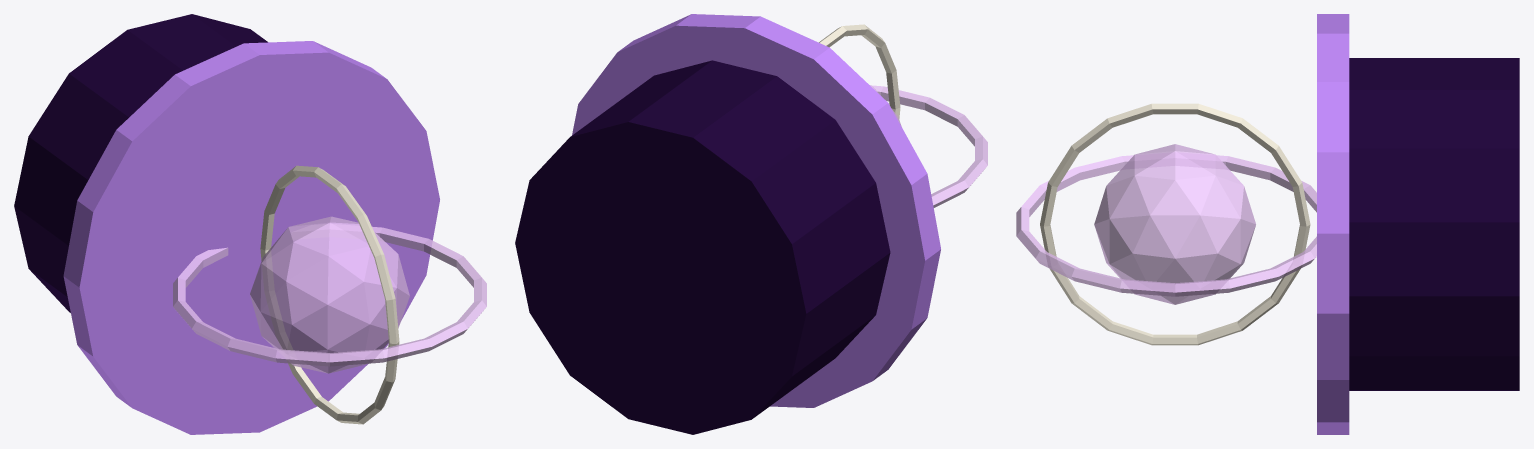
The model's file is 09_high_tier_relic_pedestal.glb.
3 views of the same model, side by side, from view 1: azimuth 30°, elevation 25°; view 2: azimuth 150°, elevation 25°; view 3: azimuth 270°, elevation 25° (orthographic).
Parts seen in each view (by area): view 1: top_rim, relic_pedestal, floating_relic_core, relic_orbit_a, relic_orbit_b; view 2: relic_pedestal, top_rim, relic_orbit_a, relic_orbit_b; view 3: relic_pedestal, floating_relic_core, top_rim, relic_orbit_b, relic_orbit_a.
Part boxes in pixels (<box>): top_rim: <box>63,41,439,434</box>; relic_pedestal: <box>14,14,267,312</box>; floating_relic_core: <box>250,216,409,373</box>; relic_orbit_a: <box>173,226,486,366</box>; relic_orbit_b: <box>260,165,399,424</box>; relic_pedestal: <box>515,60,890,434</box>; top_rim: <box>572,14,940,407</box>; relic_orbit_a: <box>871,85,987,207</box>; relic_orbit_b: <box>819,24,900,119</box>; relic_pedestal: <box>1349,58,1519,390</box>; floating_relic_core: <box>1094,144,1255,304</box>; top_rim: <box>1317,14,1349,434</box>; relic_orbit_b: <box>1040,103,1310,345</box>; relic_orbit_a: <box>1016,155,1316,296</box>.
Size of the model in its own units: 1.04 by 1.04 by 1.24.
